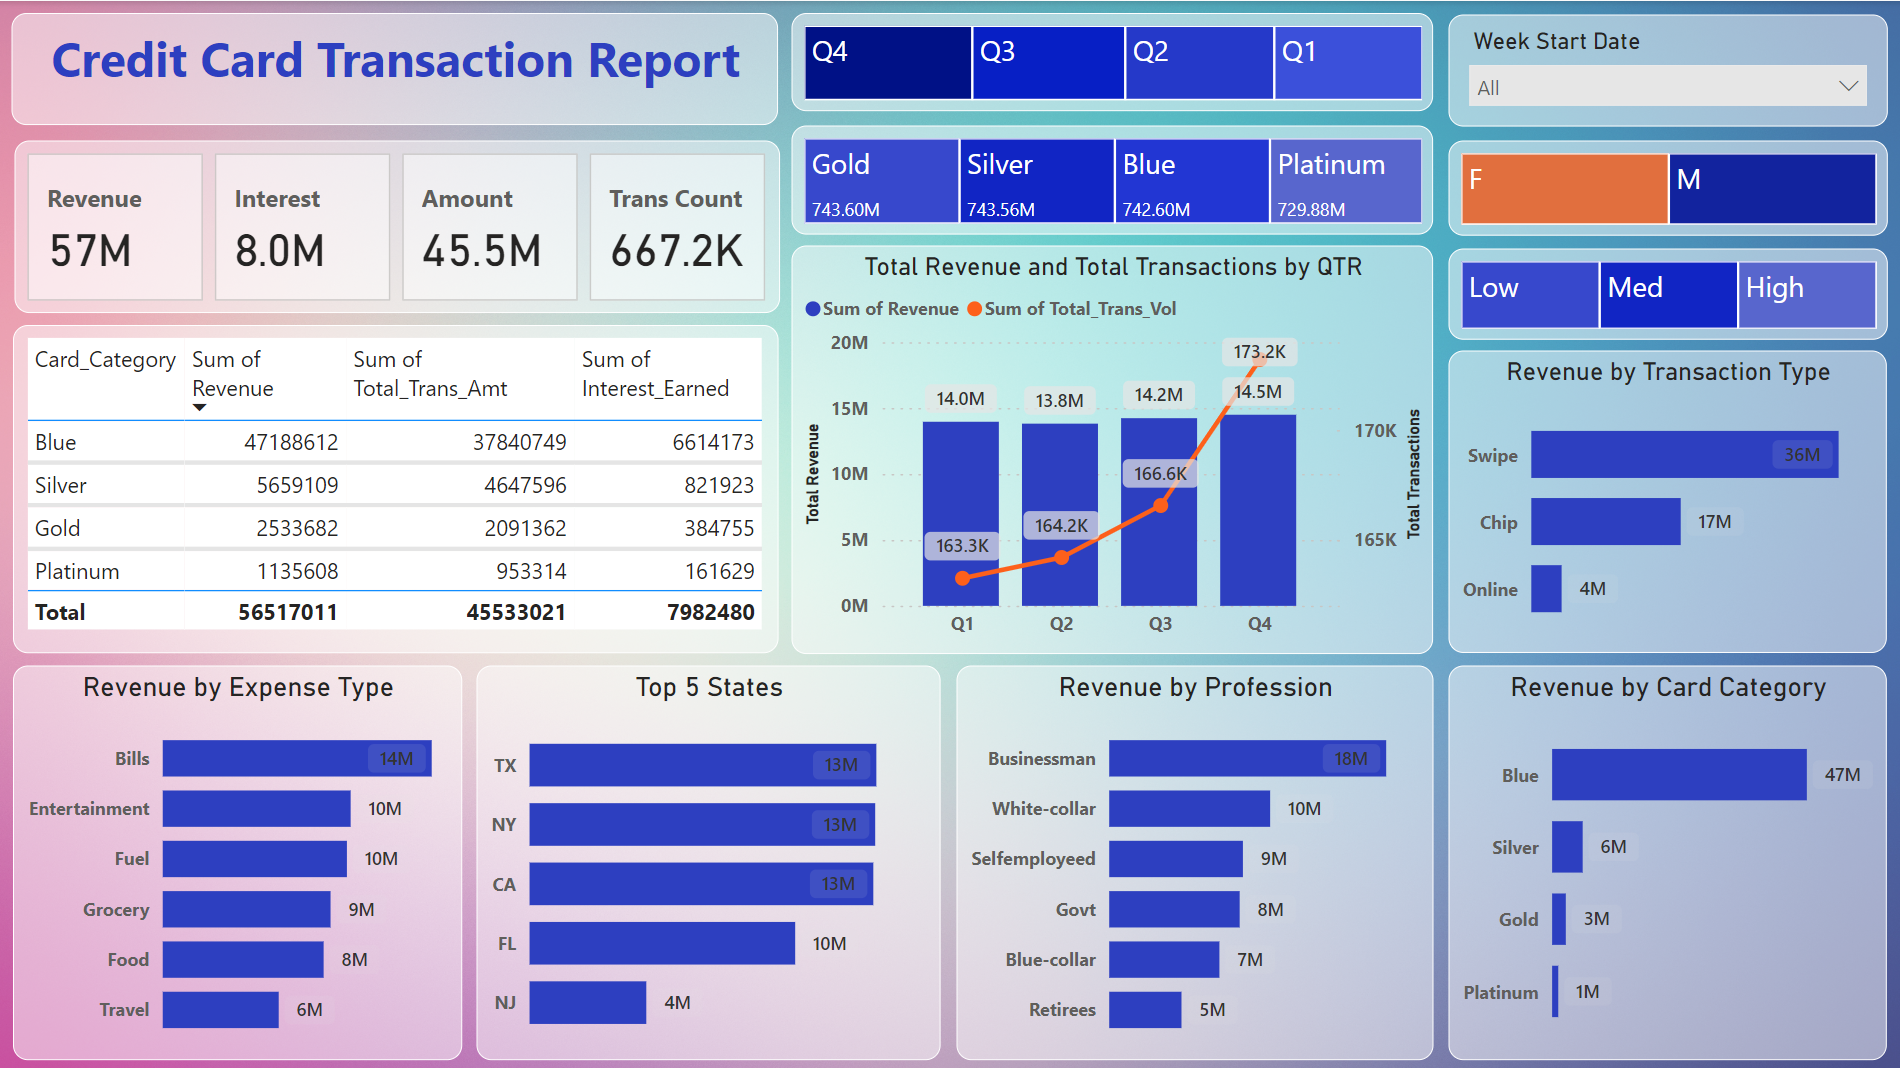

The page's visual inventory and layout, read from the dashboard file:
{"tool":"powerbi","page":{"name":"Transaction","canvas":[1280,720],"ordinal":1},"visuals":[{"type":"textbox","box":[9.5,8.5,515.3,75.3],"z":0},{"type":"lineStackedColumnComboChart","title":"Total Revenue and Total Transactions by QTR","fields":{"Category":["ccdb cc_detail.Qtr"],"Y":["Sum(ccdb cc_detail.Revenue)"],"Y2":["Sum(ccdb cc_detail.Total_Trans_Vol)"]},"box":[533.3,164.3,431.5,274.6],"z":1000},{"type":"barChart","title":"Revenue by Expense Type","fields":{"Y":["Sum(ccdb cc_detail.Revenue)"],"Category":["ccdb cc_detail.Exp_Type"]},"box":[10,446.3,301.7,265.6],"z":2000},{"type":"barChart","title":"Top 5 States","fields":{"Y":["Sum(ccdb cc_detail.Revenue)"],"Category":["ccdb cust_detail.State_cd"]},"box":[321.7,446.3,311.7,265.6],"z":3000},{"type":"barChart","title":"Revenue by Profession","fields":{"Y":["Sum(ccdb cc_detail.Revenue)"],"Category":["ccdb cust_detail.Customer_Job"]},"box":[644.6,446.3,320.4,265.6],"z":4000},{"type":"barChart","title":"Revenue by Card Category","fields":{"Category":["ccdb cc_detail.Card_Category"],"Y":["Sum(ccdb cc_detail.Revenue)"]},"box":[975.4,446.3,294.7,265],"z":5000},{"type":"barChart","title":"Revenue by Transaction Type","fields":{"Category":["ccdb cc_detail.Use_Chip"],"Y":["Sum(ccdb cc_detail.Revenue)"]},"box":[975.4,235.4,294.7,203.6],"z":6000},{"type":"tableEx","fields":{"Values":["ccdb cc_detail.Card_Category","Sum(ccdb cc_detail.Revenue)","Sum(ccdb cc_detail.Total_Trans_Amt)","Sum(ccdb cc_detail.Interest_Earned)"]},"box":[10,218.2,514.9,220.7],"z":7000},{"type":"cardVisual","fields":{"Data":["Sum(ccdb cc_detail.Revenue)","Sum(ccdb cc_detail.Interest_Earned)","Sum(ccdb cc_detail.Total_Trans_Amt)","Sum(ccdb cc_detail.Total_Trans_Vol)"]},"box":[11.2,93.5,514.9,115.9],"z":8000},{"type":"slicer","fields":{"Values":["ccdb cc_detail.Week_Start_Date"]},"box":[975,8.8,295,75],"z":9000},{"type":"treemap","fields":{"Group":["ccdb cc_detail.Qtr"],"Values":["Avg(ccdb cc_detail.Client_Num)"]},"box":[533.3,8.5,431.5,65.7],"z":10000},{"type":"treemap","fields":{"Group":["ccdb cust_detail.Gender"],"Values":["Avg(ccdb cc_detail.Client_Num)"]},"box":[975,93.8,295,63.8],"z":11000},{"type":"treemap","fields":{"Values":["Avg(ccdb cc_detail.Client_Num)"],"Group":["ccdb cc_detail.Card_Category"]},"box":[533.3,83.8,431.5,73.2],"z":12000},{"type":"treemap","fields":{"Values":["Avg(ccdb cc_detail.Client_Num)"],"Group":["ccdb cust_detail.IncomeGroup"]},"box":[975,166.2,295,61.2],"z":13000}]}

Visuals, with their boxes in screenshot pixels (x1, y1, x2, y2), scaled from the page's 1280x720 canvas onto the 1900x1068 screenshot:
textbox: [14, 13, 779, 124]
"Total Revenue and Total Transactions by QTR" lineStackedColumnComboChart: [792, 244, 1432, 651]
"Revenue by Expense Type" barChart: [15, 662, 463, 1056]
"Top 5 States" barChart: [478, 662, 940, 1056]
"Revenue by Profession" barChart: [957, 662, 1432, 1056]
"Revenue by Card Category" barChart: [1448, 662, 1885, 1055]
"Revenue by Transaction Type" barChart: [1448, 349, 1885, 651]
tableEx - ccdb cc_detail.Card_Category x Sum(ccdb cc_detail.Revenue): [15, 324, 779, 651]
cardVisual - Sum(ccdb cc_detail.Revenue) x Sum(ccdb cc_detail.Interest_Earned): [17, 139, 781, 311]
slicer - ccdb cc_detail.Week_Start_Date: [1447, 13, 1885, 124]
treemap - ccdb cc_detail.Qtr x Avg(ccdb cc_detail.Client_Num): [792, 13, 1432, 110]
treemap - ccdb cust_detail.Gender x Avg(ccdb cc_detail.Client_Num): [1447, 139, 1885, 234]
treemap - Avg(ccdb cc_detail.Client_Num) x ccdb cc_detail.Card_Category: [792, 124, 1432, 233]
treemap - Avg(ccdb cc_detail.Client_Num) x ccdb cust_detail.IncomeGroup: [1447, 247, 1885, 337]
